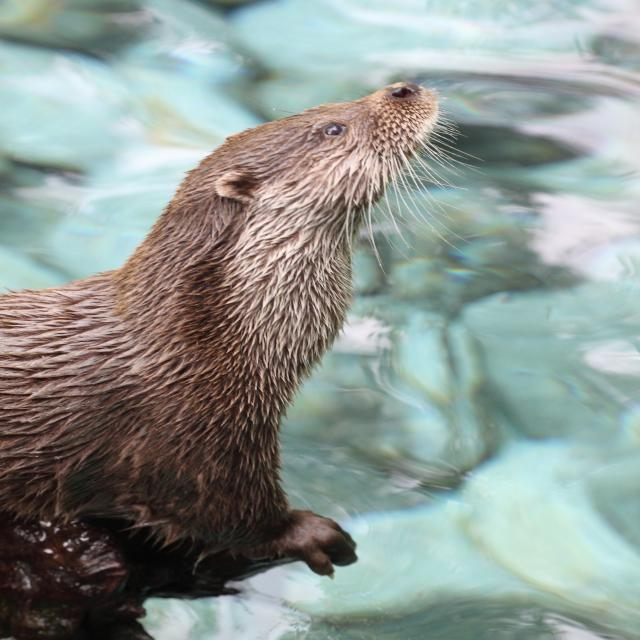otter: (1, 79, 442, 586)
